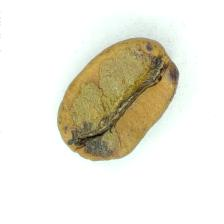NG: (65, 44, 179, 155)
